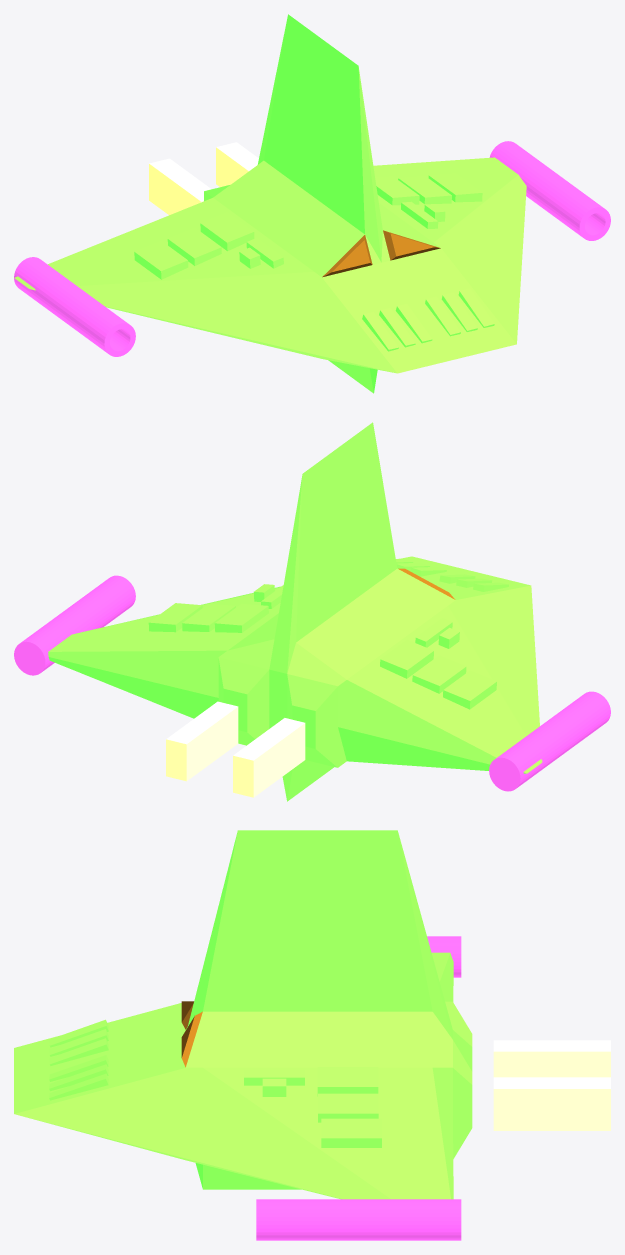
File: enemy_ship3.glb
3 renders of one model, top to bottom at view 1: azimuth 30°, elevation 25°; view 2: azimuth 150°, elevation 25°; view 3: azimuth 270°, elevation 25°, orthographic. The views are drawn at different scales.
Parts seen in each view (by area): view 1: MainObject, Cylinder, Booster, Cube.001; view 2: MainObject, Cylinder, Booster; view 3: MainObject, Booster, Cylinder, Cube.001.
Boxes of the visible parts, x1,y1,x2,y2 form: MainObject: (14,14,526,393); Cylinder: (14,141,610,356); Booster: (149,142,258,215); Cube.001: (322,230,440,277); MainObject: (48,422,542,801); Cylinder: (14,575,610,791); Booster: (166,701,305,797); MainObject: (14,830,472,1199); Booster: (493,1040,610,1130); Cylinder: (256,936,461,1240); Cube.001: (181,1001,202,1067).
Size of the model in its own units: 5 by 2.97 by 4.47.
